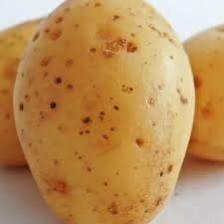Diseased-fungal potato: (10, 0, 202, 224)
